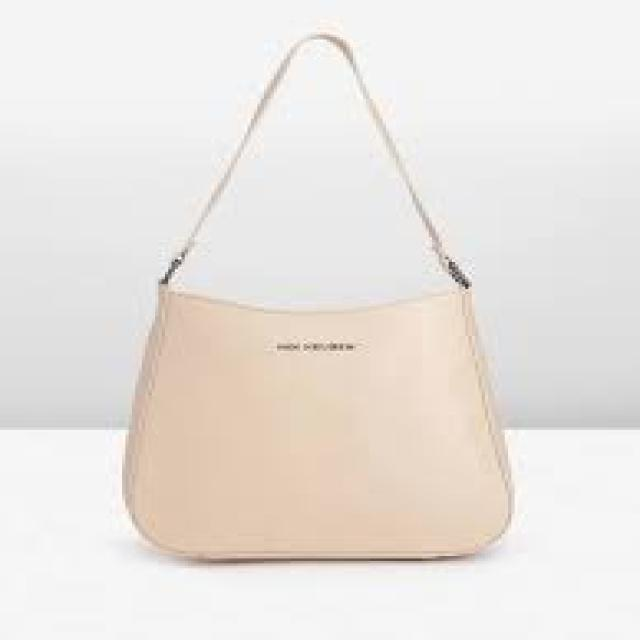handbag: (118, 30, 514, 561)
